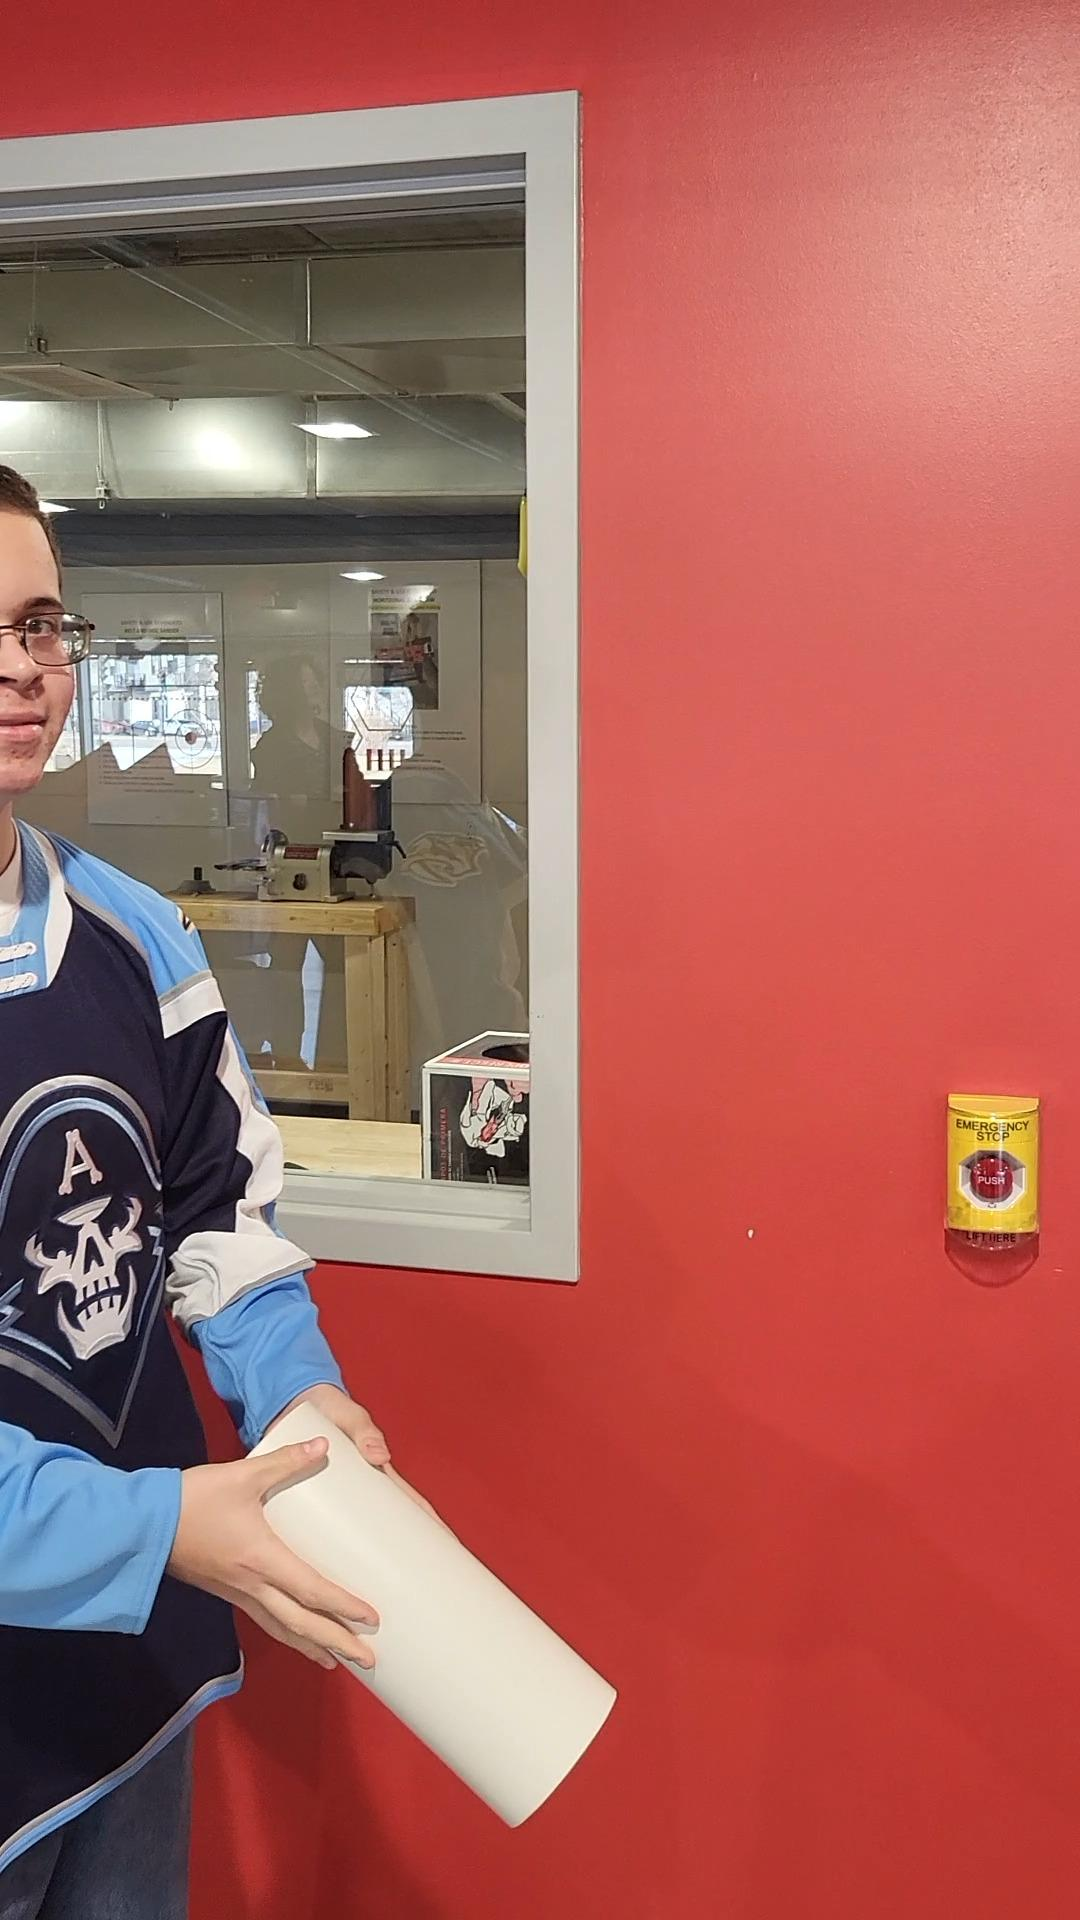coral: (223, 1416, 620, 1828)
